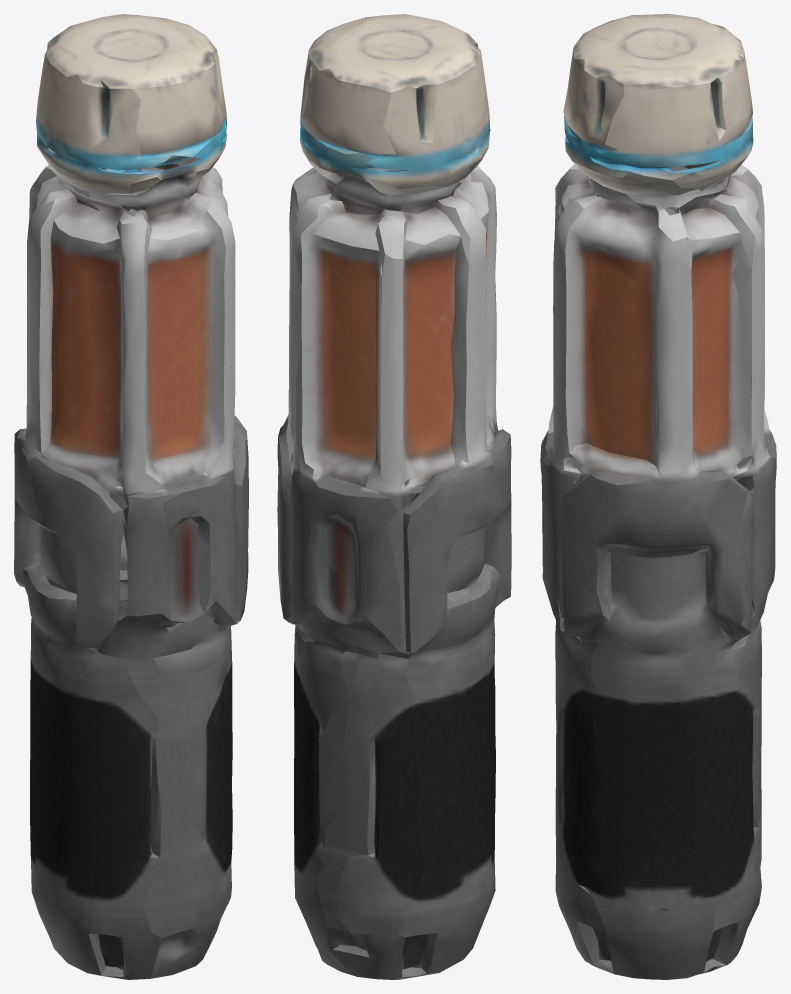
Rendered from medical-vial-v1.glb.
3 renders of one model, left to right at view 1: azimuth 30°, elevation 25°; view 2: azimuth 150°, elevation 25°; view 3: azimuth 270°, elevation 25°, orthographic.
Parts seen in each view (by area): view 1: medical-vial-surface; view 2: medical-vial-surface; view 3: medical-vial-surface.
Boxes of the visible parts, x1,y1,x2,y2 form: medical-vial-surface: (14, 14, 248, 979); medical-vial-surface: (277, 14, 511, 979); medical-vial-surface: (540, 14, 776, 979).
Bounding box in the file's own units: 0.0328 × 0.14 × 0.0329.
Materials: 1 (1 with a texture image).
